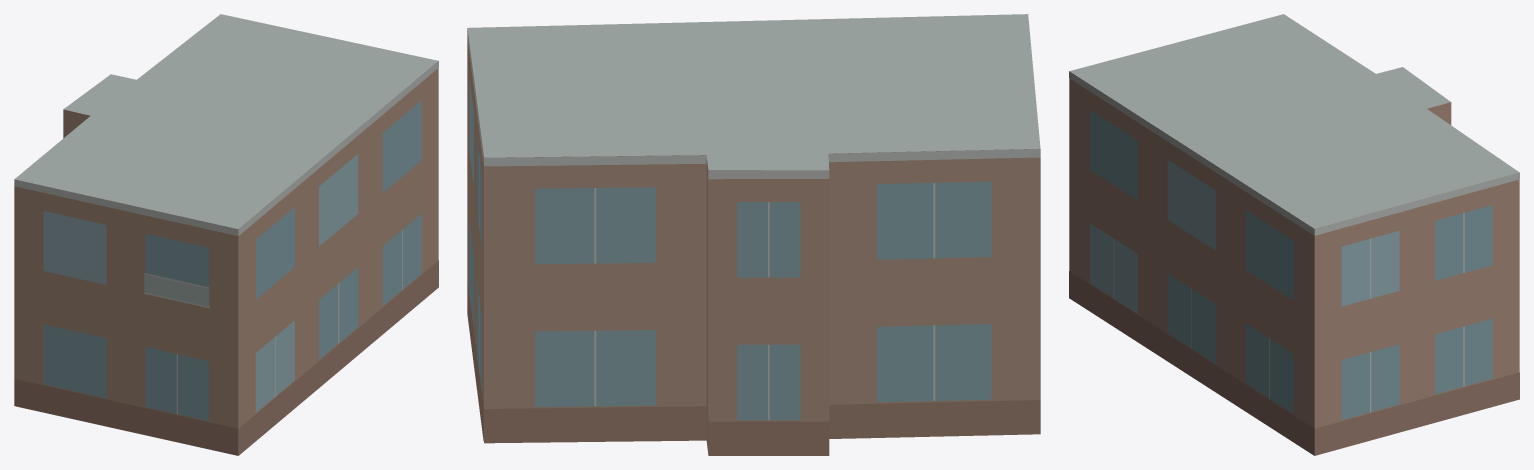
File: survey-upis-32621817.glb
The picture shows the model from 3 angles, left to right: view 1: azimuth 30°, elevation 25°; view 2: azimuth 150°, elevation 25°; view 3: azimuth 270°, elevation 25°; orthographic projection. The views are drawn at different scales.
Visible parts, largest first — view 1: survey-upis-32621817.tmp; view 2: survey-upis-32621817.tmp; view 3: survey-upis-32621817.tmp.
Part boxes in pixels (x1=…): survey-upis-32621817.tmp: x1=14, y1=14, x2=438, y2=455; survey-upis-32621817.tmp: x1=467, y1=14, x2=1040, y2=455; survey-upis-32621817.tmp: x1=1069, y1=14, x2=1519, y2=455.
Bounding box in the file's own units: 16.15 × 7.95 × 14.31.
